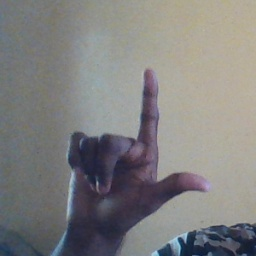L: (67, 69, 211, 233)
